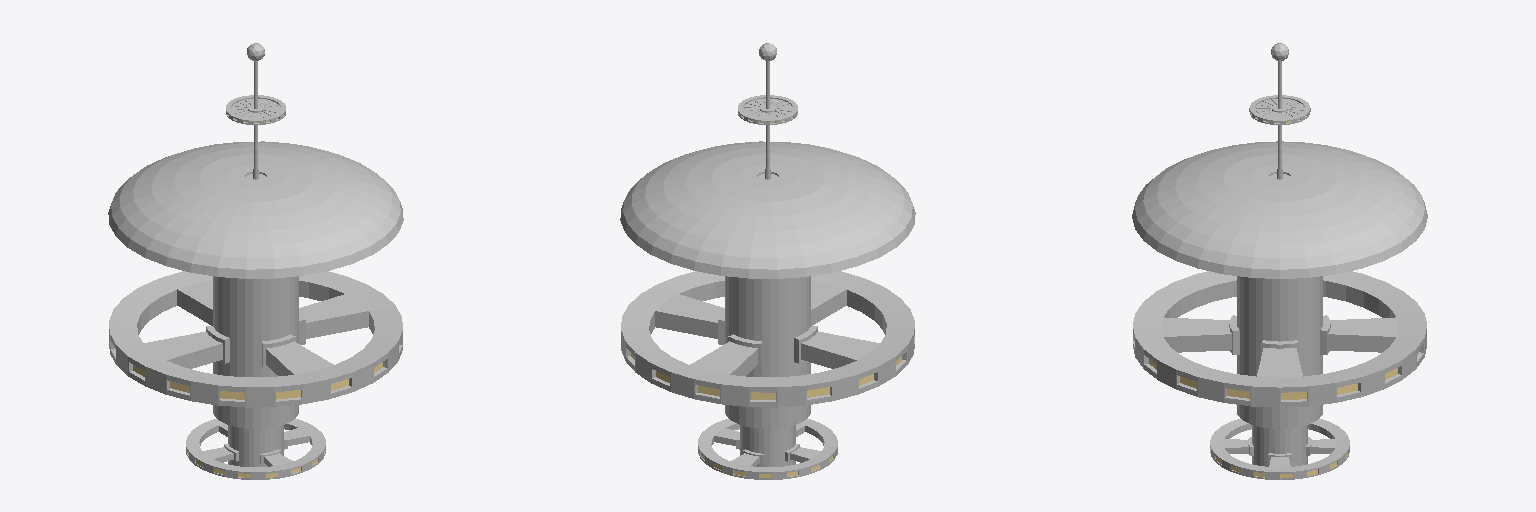
File: spacestation.obj
3 views of the same model, side by side, from view 1: azimuth 30°, elevation 25°; view 2: azimuth 150°, elevation 25°; view 3: azimuth 270°, elevation 25° (orthographic).
Parts seen in each view (by area): view 1: Cylinder; view 2: Cylinder; view 3: Cylinder.
Part boxes in pixels (left/top/right/bottom): Cylinder: left=108, top=43, right=403, bottom=479; Cylinder: left=620, top=43, right=915, bottom=479; Cylinder: left=1132, top=43, right=1427, bottom=479.
Bounding box in the file's own units: 7.91 × 12.53 × 7.91.